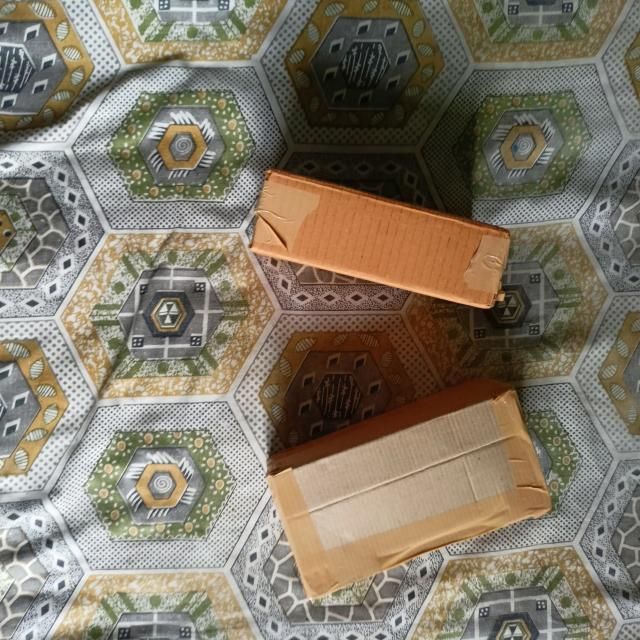box: (270, 392, 556, 599), (251, 167, 512, 310)
